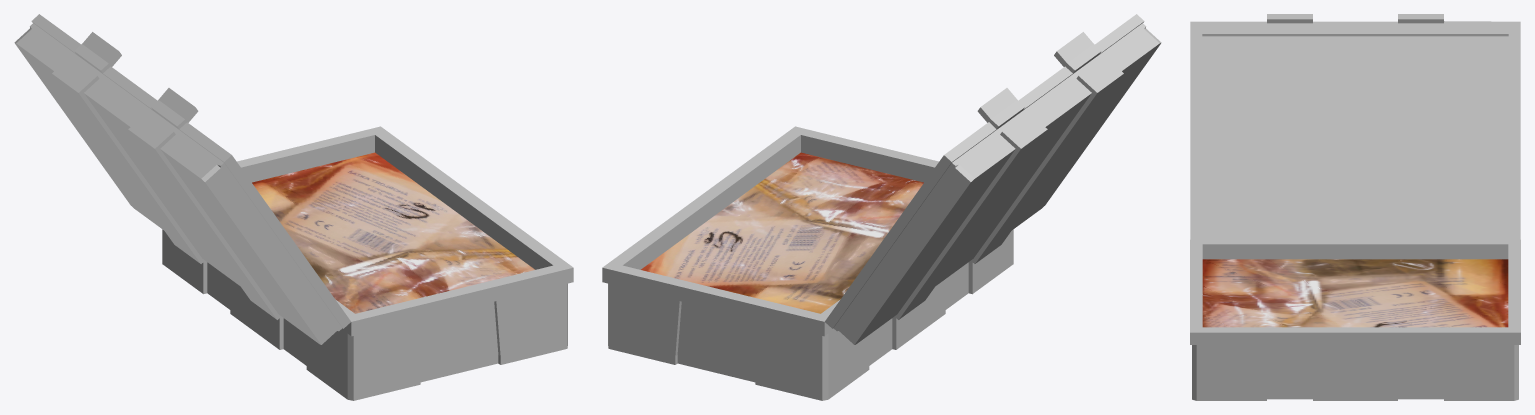
Rendered from healthpck.fbx.
3 renders of one model, left to right at view 1: azimuth 30°, elevation 25°; view 2: azimuth 150°, elevation 25°; view 3: azimuth 270°, elevation 25°, orthographic. The views are drawn at different scales.
Parts seen in each view (by area): view 1: HealthPack; view 2: HealthPack; view 3: HealthPack.
Boxes of the visible parts, left/top/right/bottom form: HealthPack: left=14, top=14, right=573, bottom=400; HealthPack: left=602, top=14, right=1161, bottom=400; HealthPack: left=1190, top=14, right=1520, bottom=400.
Size of the model in its own units: 679 by 502 by 607.
